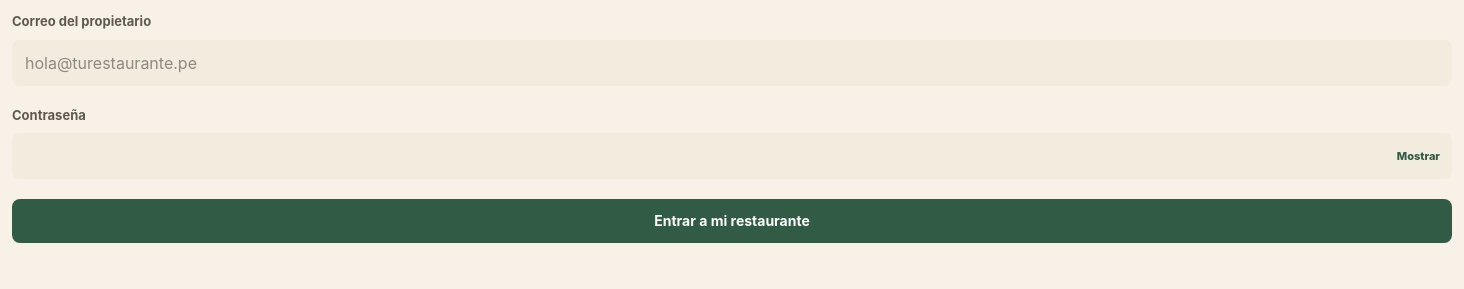
OwnerLoginForm › revisa el correo al pasar a la contraseña y retira el aviso en cuanto se corrige
In the field labelled "Correo del propietario": (732, 62) left=12, top=40, right=1452, bottom=86, type "sin-arroba"
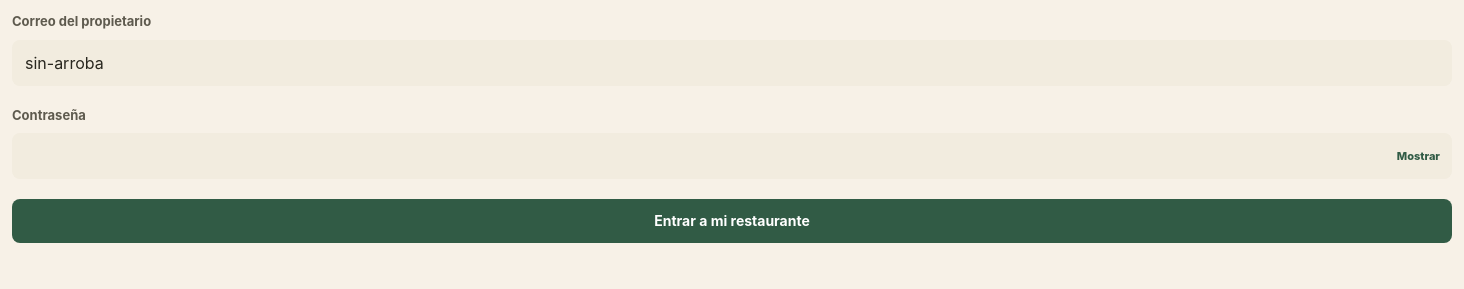
Leave the field labelled "Correo del propietario", box left=12, top=40, right=1452, bottom=86
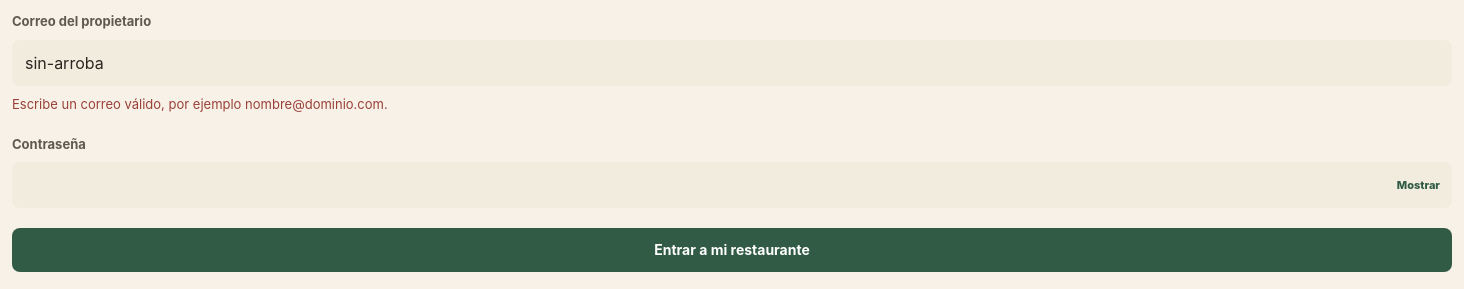
Expected: the message shows "Escribe un correo válido", left=12, top=96, right=388, bottom=112
Replace the text in the field labelled "Correo del propietario" with "hola@turestaurante.pe": (732, 62) left=12, top=40, right=1452, bottom=86
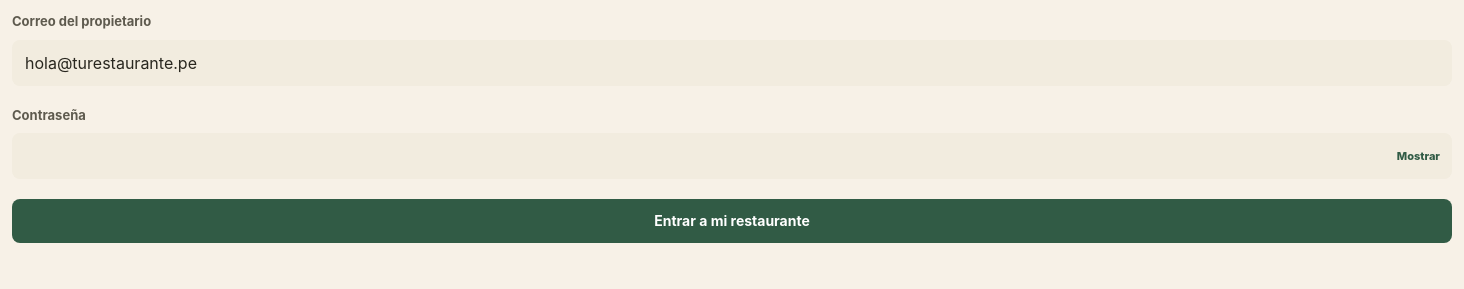
Expected: the message "Escribe un correo válido, por ejemplo nombre@dominio.com." is gone
